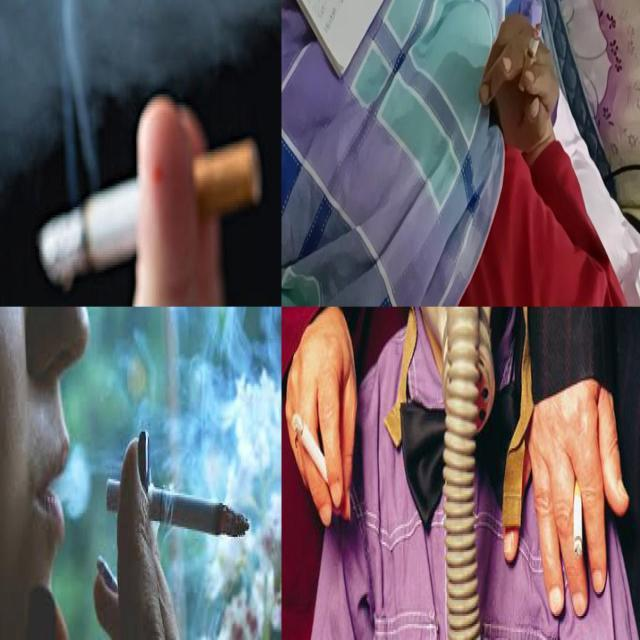smoking: (35, 137, 264, 291), (106, 476, 250, 536), (290, 402, 332, 487), (518, 24, 541, 94), (570, 476, 588, 564)
